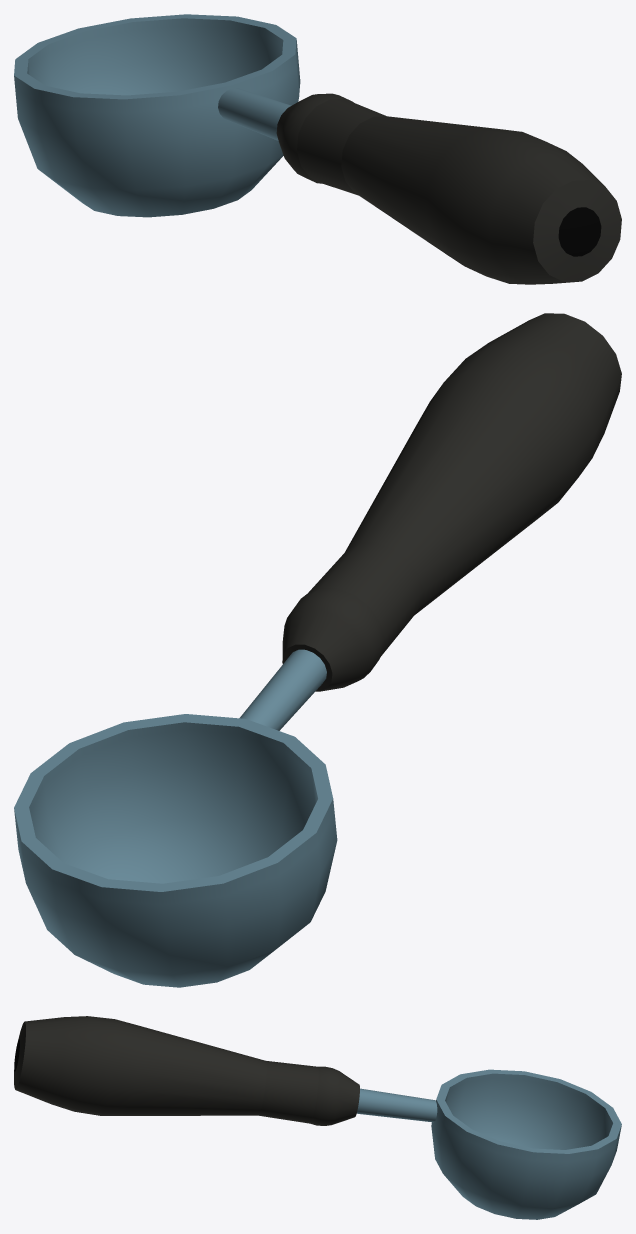
The model's file is Wax_Spoon_low.fbx.
3 views of the same model, one above another, from view 1: azimuth 30°, elevation 25°; view 2: azimuth 150°, elevation 25°; view 3: azimuth 270°, elevation 25° (orthographic). The views are drawn at different scales.
Visible parts, largest first — view 1: Wax_Spoon; view 2: Wax_Spoon; view 3: Wax_Spoon.
Boxes of the visible parts, <box> form: Wax_Spoon: <box>14,14,621,284</box>; Wax_Spoon: <box>14,313,621,987</box>; Wax_Spoon: <box>14,1016,621,1219</box>.
Size of the model in its own units: 72.27 by 82.57 by 233.
